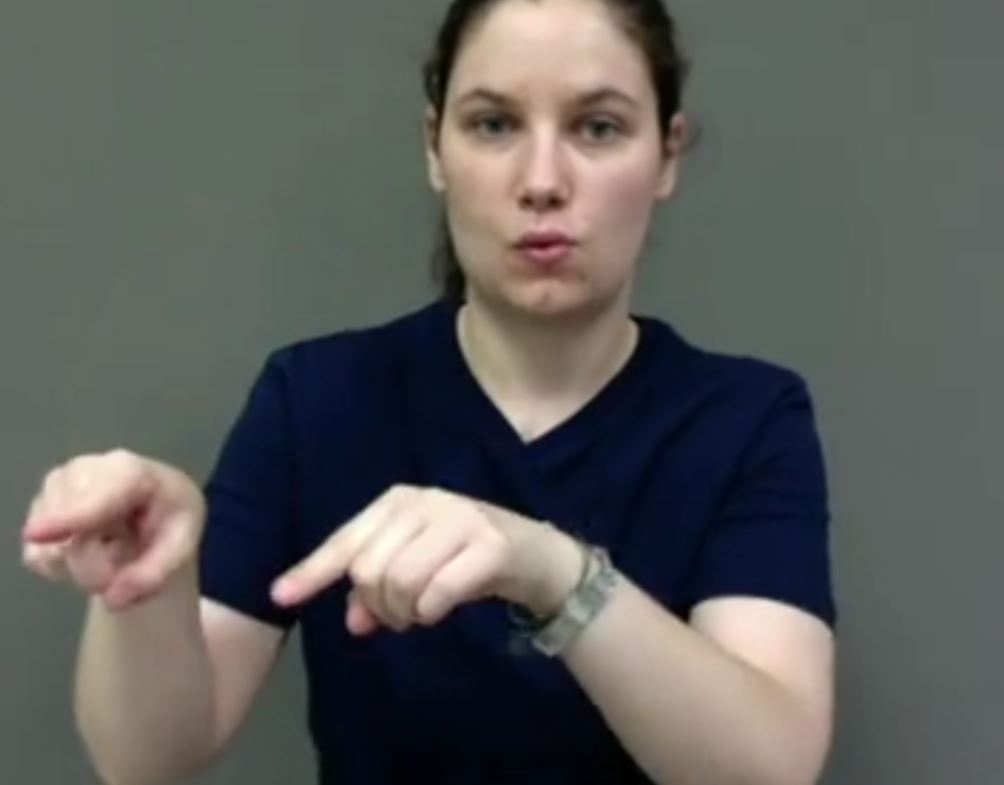go: (1, 449, 586, 698)
